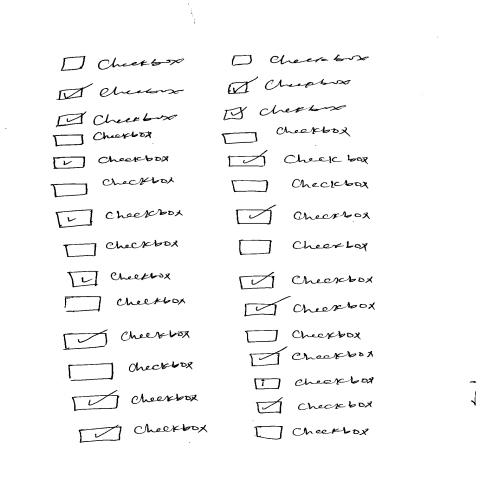Check Box: (63, 329, 191, 352), (68, 360, 195, 383), (73, 390, 199, 413), (50, 176, 175, 199), (78, 424, 210, 444), (55, 210, 185, 230), (221, 127, 352, 146), (223, 103, 348, 122), (237, 209, 371, 226), (239, 274, 373, 291), (244, 301, 377, 318), (228, 78, 351, 96), (64, 296, 186, 314), (240, 240, 369, 257), (58, 85, 185, 102), (61, 56, 185, 73), (250, 351, 374, 368), (56, 112, 179, 129), (64, 240, 179, 258), (232, 179, 368, 194), (227, 154, 370, 168), (67, 271, 173, 289), (231, 54, 371, 67), (254, 377, 375, 392), (256, 401, 374, 415), (246, 331, 363, 345), (255, 426, 370, 440), (54, 157, 169, 170), (53, 132, 152, 147)
